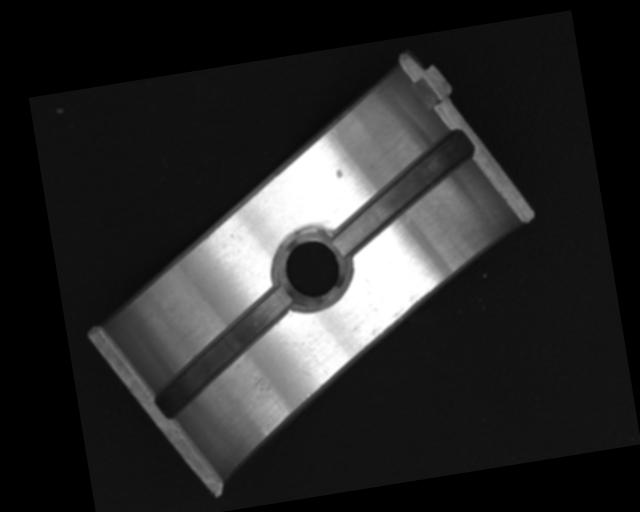bruise: (333, 167, 344, 178)
gap: (140, 285, 305, 419), (321, 128, 487, 258)
hole: (272, 227, 348, 312)
